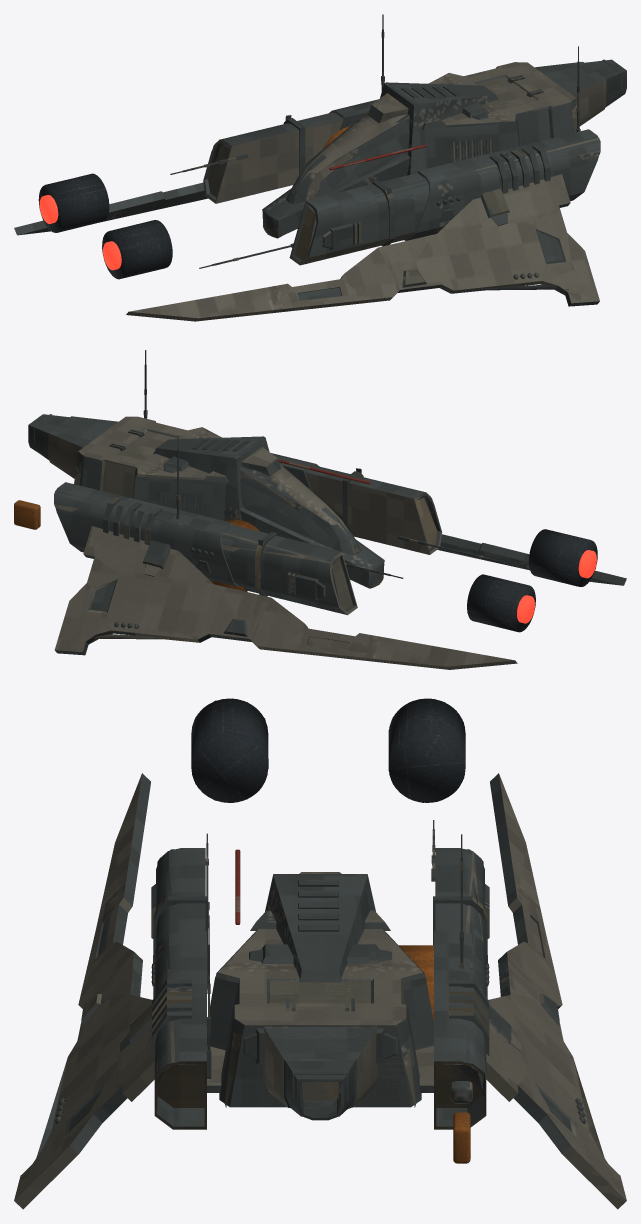
File: ashline_v2_rig.glb
The picture shows the model from 3 angles, top to bottom: view 1: azimuth 30°, elevation 25°; view 2: azimuth 150°, elevation 25°; view 3: azimuth 270°, elevation 25°; orthographic projection. The views are drawn at different scales.
Visible parts, largest first — view 1: LOD0_Merged_Material_Hull, LOD1_Merged_Material_Hull, LOD2_Merged_Material_Hull, LOD0_Merged_Material_Mechanical, LOD1_Merged_Material_Mechanical, LOD0_HOOK_DRIVE_CORE, LOD1_HOOK_DRIVE_CORE; view 2: LOD0_Merged_Material_Hull, LOD1_Merged_Material_Hull, LOD2_Merged_Material_Hull, LOD0_Merged_Material_Mechanical, LOD1_Merged_Material_Mechanical, LOD0_HOOK_TETHER_SPOOL, LOD0_HOOK_DRIVE_CORE; view 3: LOD0_Merged_Material_Hull, LOD1_Merged_Material_Hull, LOD0_Merged_Material_Mechanical, LOD2_Merged_Material_Hull, LOD1_Merged_Material_Mechanical, LOD0_HOOK_TETHER_SPOOL.
Boxes of the visible parts, x1,y1,x2,y2 form: LOD0_Merged_Material_Hull: [14, 14, 626, 321]; LOD1_Merged_Material_Hull: [199, 59, 625, 318]; LOD2_Merged_Material_Hull: [18, 73, 624, 306]; LOD0_Merged_Material_Mechanical: [38, 173, 172, 279]; LOD1_Merged_Material_Mechanical: [39, 173, 172, 278]; LOD0_HOOK_DRIVE_CORE: [39, 195, 121, 270]; LOD1_HOOK_DRIVE_CORE: [39, 195, 121, 270]; LOD0_Merged_Material_Hull: [28, 350, 626, 669]; LOD1_Merged_Material_Hull: [31, 414, 444, 666]; LOD2_Merged_Material_Hull: [30, 415, 621, 655]; LOD0_Merged_Material_Mechanical: [467, 529, 597, 632]; LOD1_Merged_Material_Mechanical: [467, 529, 597, 631]; LOD0_HOOK_TETHER_SPOOL: [14, 500, 259, 591]; LOD0_HOOK_DRIVE_CORE: [517, 550, 596, 623]; LOD0_Merged_Material_Hull: [14, 773, 625, 1209]; LOD1_Merged_Material_Hull: [14, 845, 626, 1201]; LOD0_Merged_Material_Mechanical: [191, 698, 465, 802]; LOD2_Merged_Material_Hull: [35, 849, 605, 1162]; LOD1_Merged_Material_Mechanical: [191, 698, 465, 802]; LOD0_HOOK_TETHER_SPOOL: [399, 945, 470, 1163].
Size of what is drawn, in the model's own units: 18.5 by 6.6 by 11.49.
Materials: 5 (5 with a texture image).
